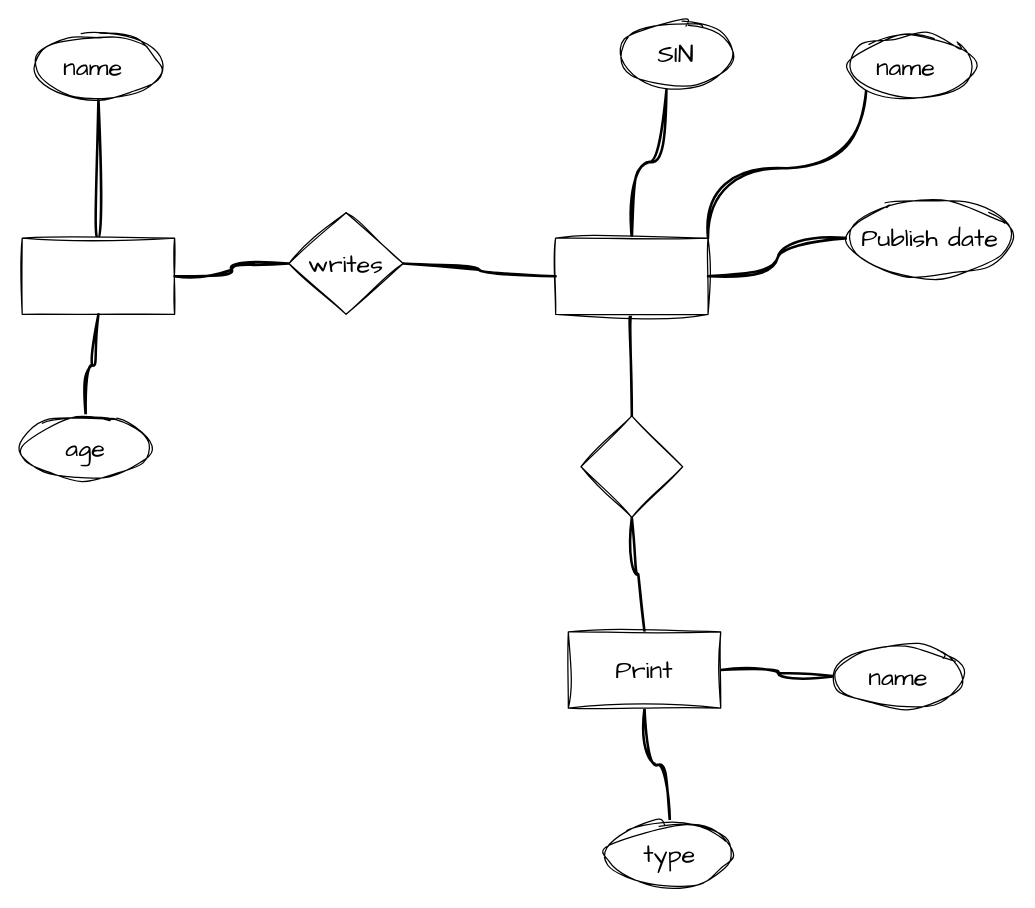
Image size: 1035x908. Some labels were removed from this diagram. Here are the shapes that lost their labels. From the top down, the centre of each, then its label:
At [98,275]: "Author".
At [631,275]: "Books".
At [631,466]: "prints".
